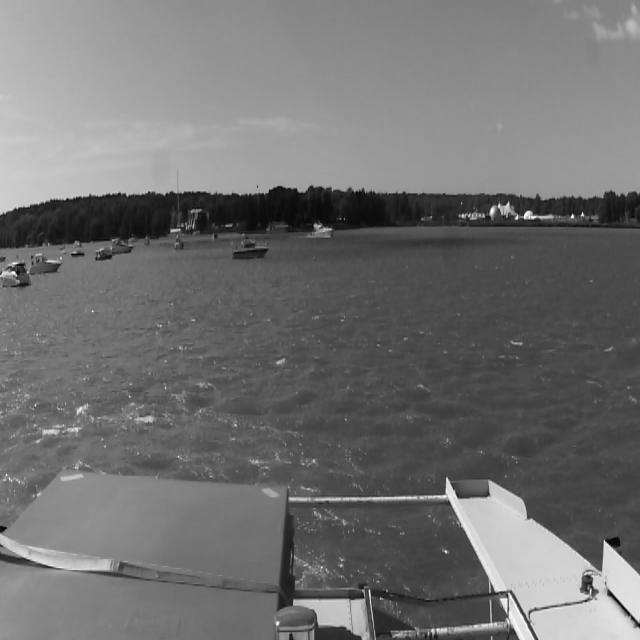ship: (232, 234, 270, 260), (1, 261, 31, 288), (174, 170, 184, 250), (26, 254, 62, 275), (312, 222, 334, 238), (110, 240, 132, 254), (95, 248, 113, 260), (71, 248, 85, 257)
